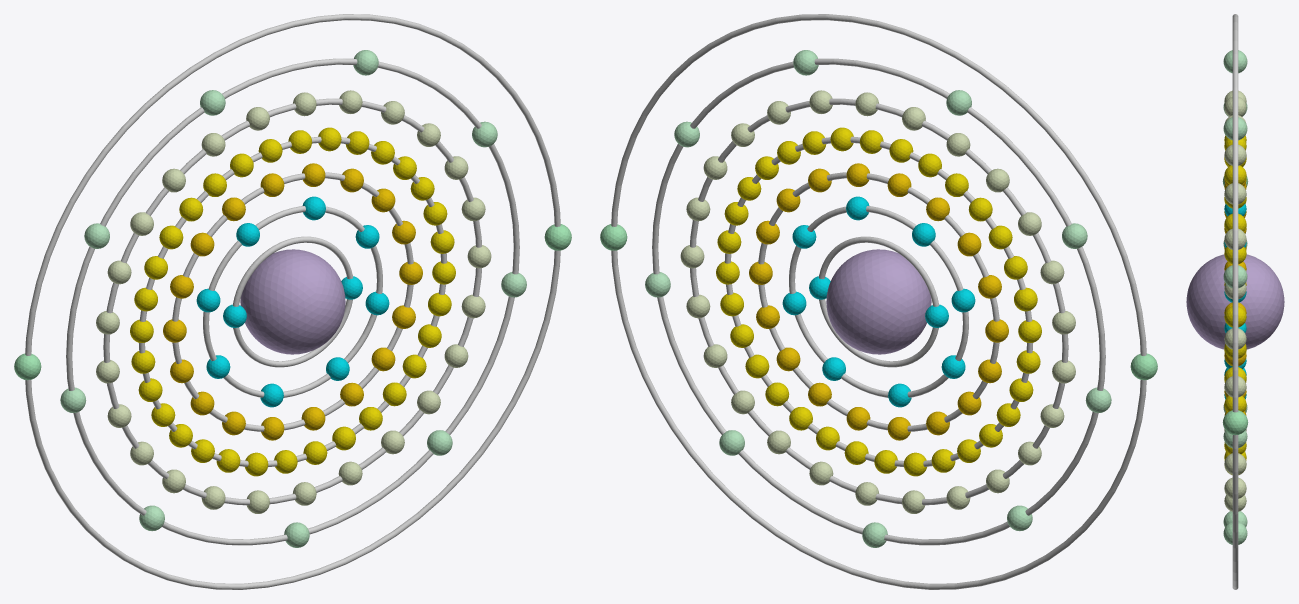
3 views of the same model, side by side, from view 1: azimuth 30°, elevation 25°; view 2: azimuth 150°, elevation 25°; view 3: azimuth 270°, elevation 25° (orthographic). The views are drawn at different scales.
Parts seen in each view (by area): view 1: world; view 2: world; view 3: world.
Part boxes in pixels (x1,y1,x2,y2): world: [14, 14, 571, 589]; world: [600, 14, 1157, 589]; world: [1186, 14, 1284, 589].
Bounding box in the file's own units: 2.67 × 2.59 × 0.44.
